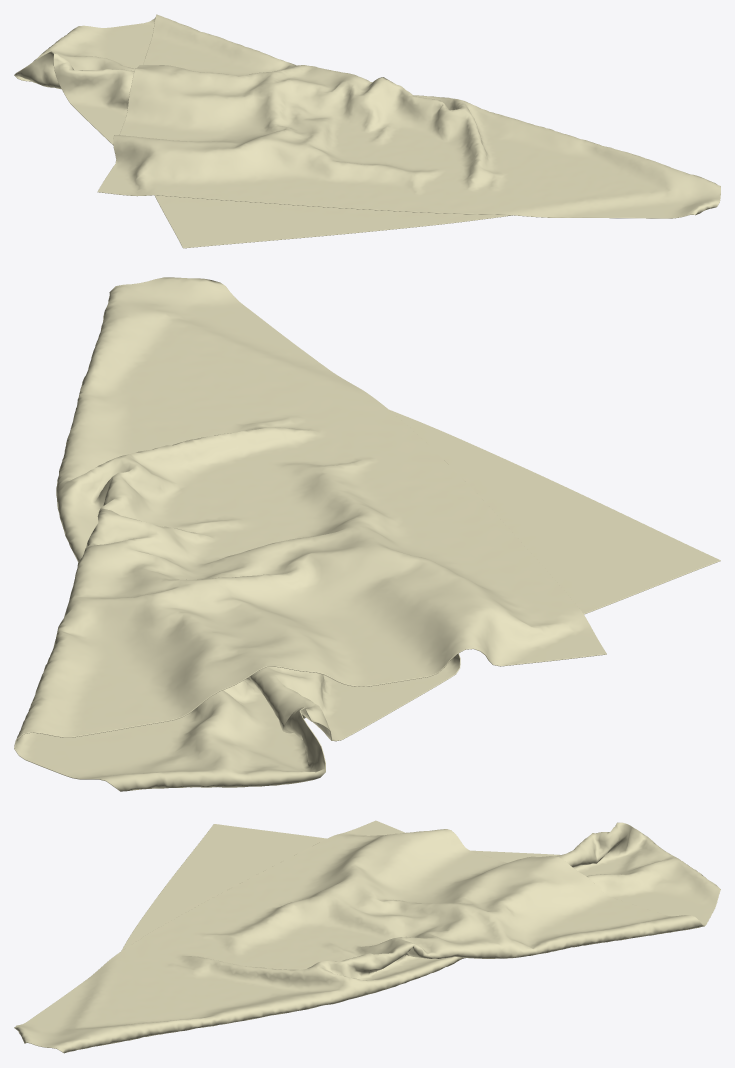
The model's file is singlecloth.fbx.
The picture shows the model from 3 angles, top to bottom: view 1: azimuth 30°, elevation 25°; view 2: azimuth 150°, elevation 25°; view 3: azimuth 270°, elevation 25°; orthographic projection. The views are drawn at different scales.
Visible parts, largest first — view 1: various-cloth-pieces.001; view 2: various-cloth-pieces.001; view 3: various-cloth-pieces.001.
Boxes of the visible parts, x1,y1,x2,y2 form: various-cloth-pieces.001: [14, 14, 720, 248]; various-cloth-pieces.001: [14, 277, 720, 791]; various-cloth-pieces.001: [14, 820, 720, 1053].
Bounding box in the file's own units: 46.38 × 3.28 × 59.05.
